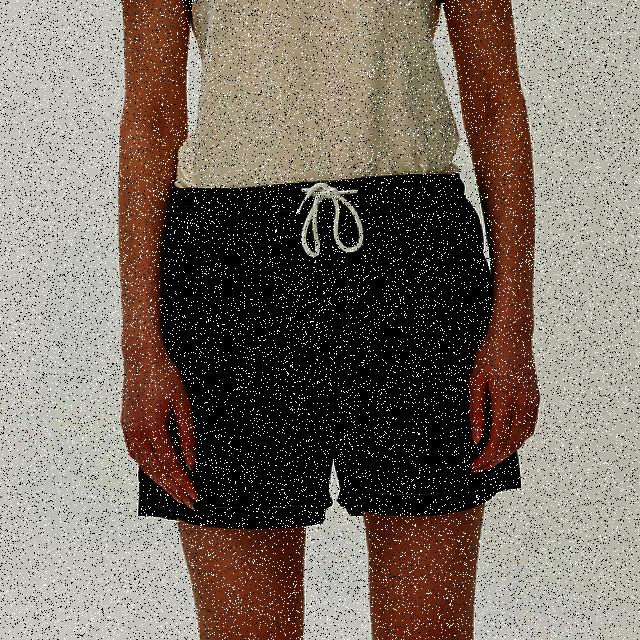Blouse_deep: (137, 169, 524, 522)
